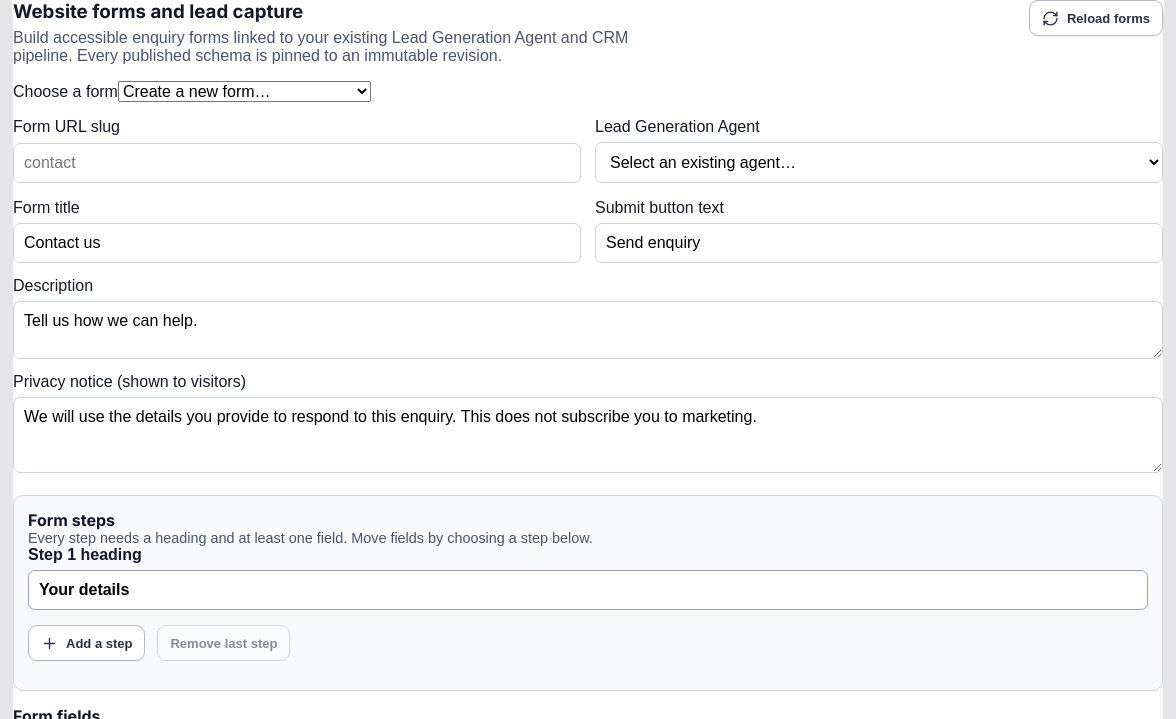
it: Website CMS site forms editor › reads receipt references without requesting or exposing full submission answers
Select "Contact us (/contact) · published" in the dropdown labelled "Choose a form" at (244, 92), box x1=118 y1=81 x2=371 y2=102
(page scrolled)
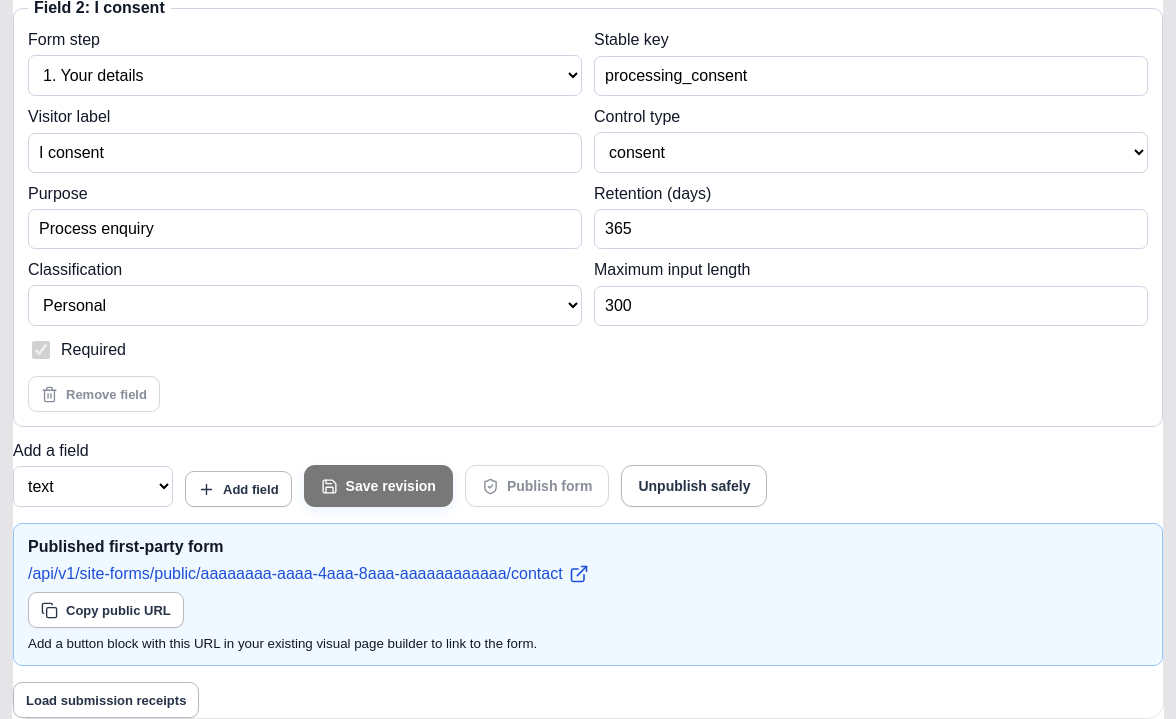
Click the button "Load submission receipts" at (106, 700), box x1=13 y1=682 x2=199 y2=718
(page scrolled)
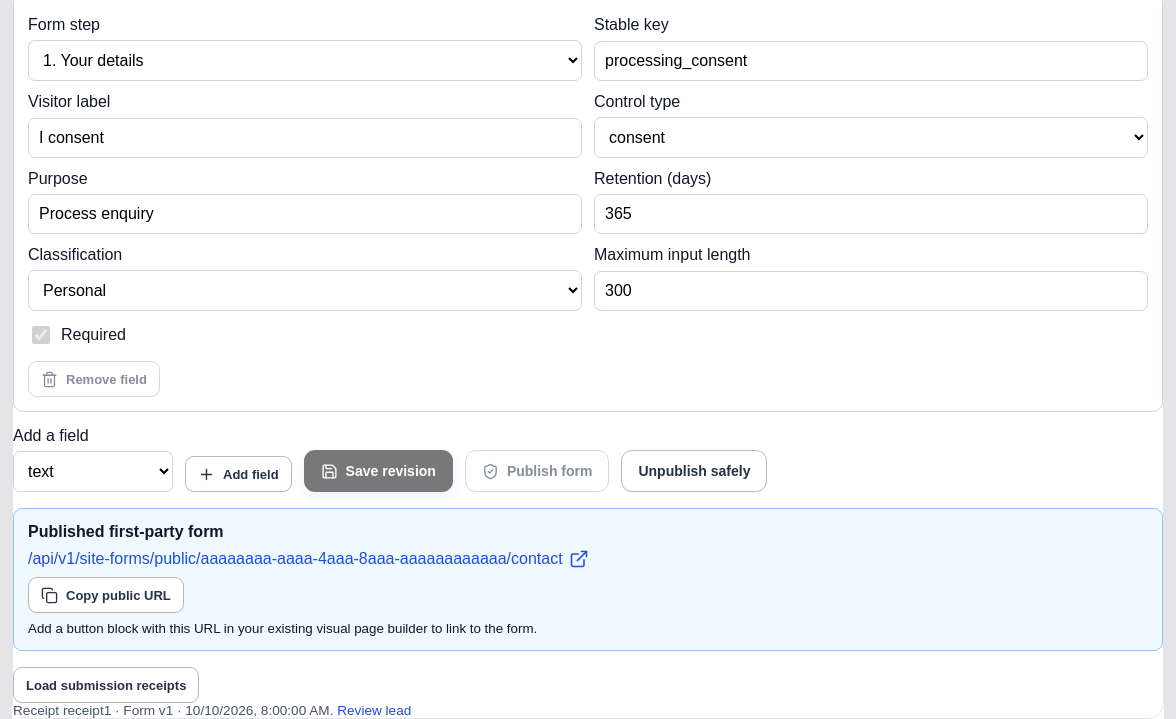
Expected: the text "Receipt receipt1" is shown, x1=13 y1=703 x2=411 y2=718
